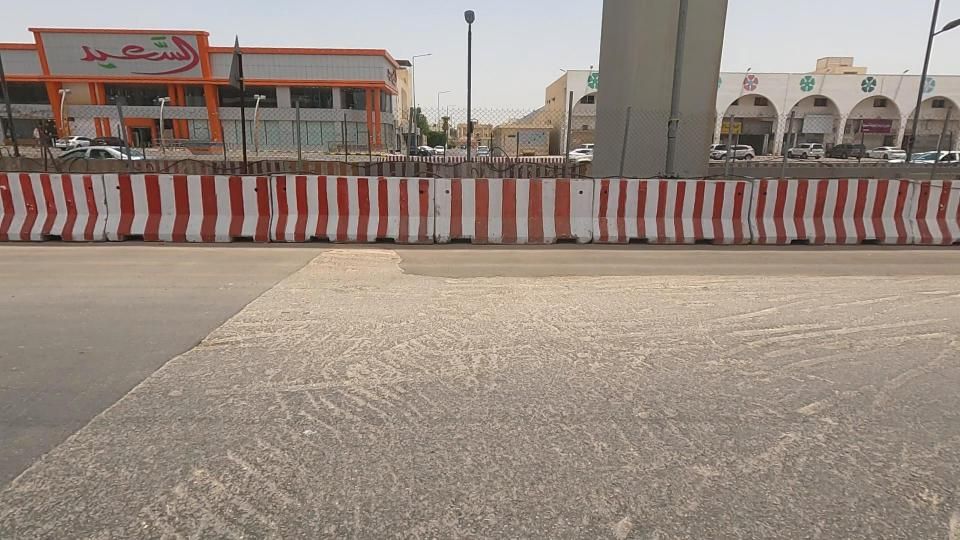CONSTRUCTION_ROAD: (379, 114, 960, 315), (0, 112, 389, 293), (233, 122, 587, 290)
